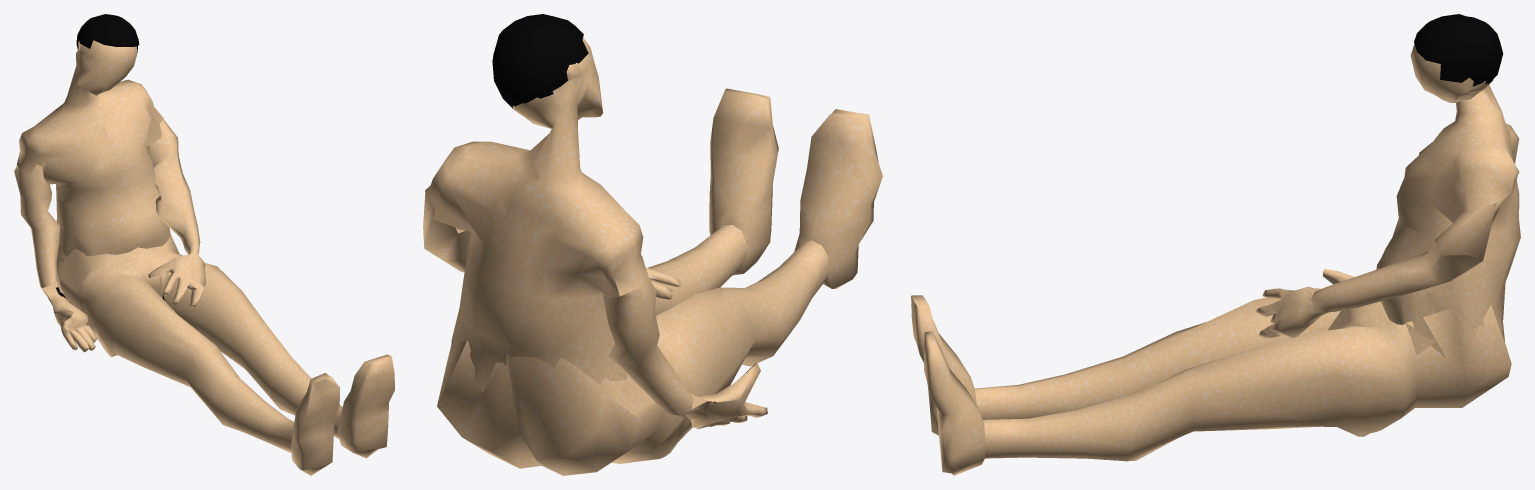
The model's file is DeadMan3.fbx.
3 views of the same model, side by side, from view 1: azimuth 30°, elevation 25°; view 2: azimuth 150°, elevation 25°; view 3: azimuth 270°, elevation 25° (orthographic). The views are drawn at different scales.
Visible parts, largest first — view 1: üst vücut, Saç; view 2: üst vücut, Saç; view 3: üst vücut, Saç.
Boxes of the visible parts, <box> form: üst vücut: <box>14,40,394,475</box>; Saç: <box>76,14,139,52</box>; üst vücut: <box>423,37,882,475</box>; Saç: <box>492,14,588,108</box>; üst vücut: <box>911,44,1520,475</box>; Saç: <box>1414,14,1503,86</box>.
Size of the model in its own units: 108 by 181 by 241.
Materials: 2 (1 with a texture image).
